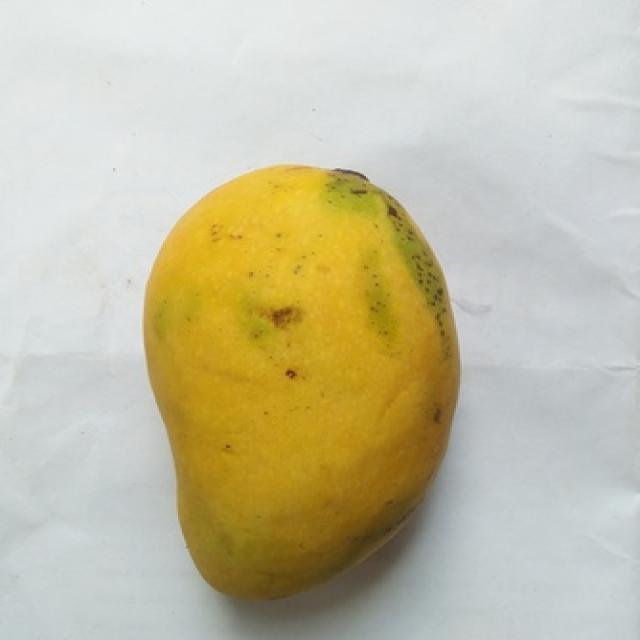Mango: (146, 166, 456, 594)
